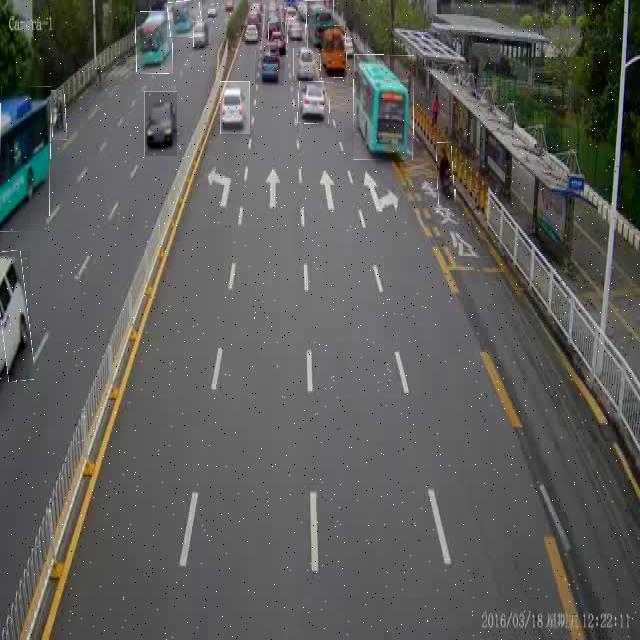Bus: (0, 86, 50, 231), (354, 55, 414, 160), (135, 12, 173, 74), (319, 26, 347, 78), (307, 0, 334, 53), (167, 0, 202, 37)
Car: (0, 251, 30, 382), (144, 91, 177, 156), (220, 81, 250, 134), (297, 82, 330, 124), (255, 50, 285, 86), (293, 48, 320, 76), (269, 22, 286, 56), (287, 18, 306, 48), (193, 21, 210, 47), (241, 24, 263, 42)
Motorcycle: (438, 142, 456, 207), (51, 90, 66, 140)
